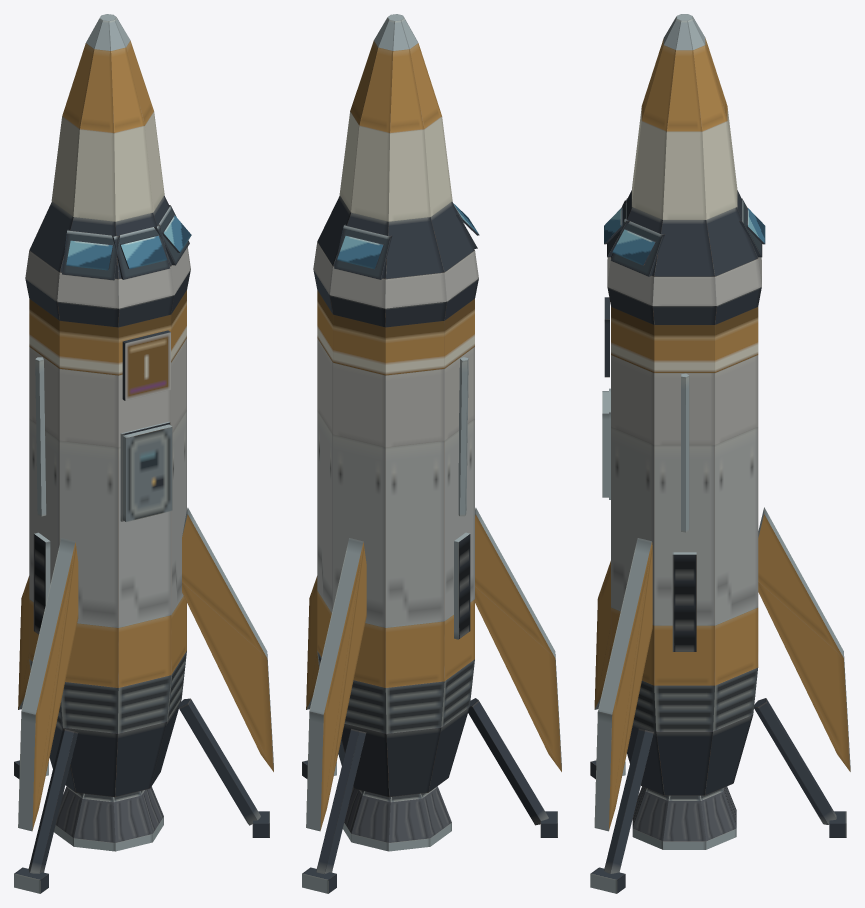
The model's file is tier_1_rocket.obj.
3 renders of one model, left to right at view 1: azimuth 30°, elevation 25°; view 2: azimuth 150°, elevation 25°; view 3: azimuth 270°, elevation 25°, orthographic.
Parts seen in each view (by area): view 1: airframe, access_hatch; view 2: airframe; view 3: airframe, access_hatch.
Part boxes in pixels (x1=…): airframe: x1=14, y1=14, x2=273, y2=893; access_hatch: x1=122, y1=424, x2=172, y2=521; airframe: x1=302, y1=14, x2=561, y2=893; airframe: x1=590, y1=14, x2=850, y2=893; access_hatch: x1=602, y1=391, x2=608, y2=497.
Size of the model in its own units: 1.39 by 4.23 by 1.22.
